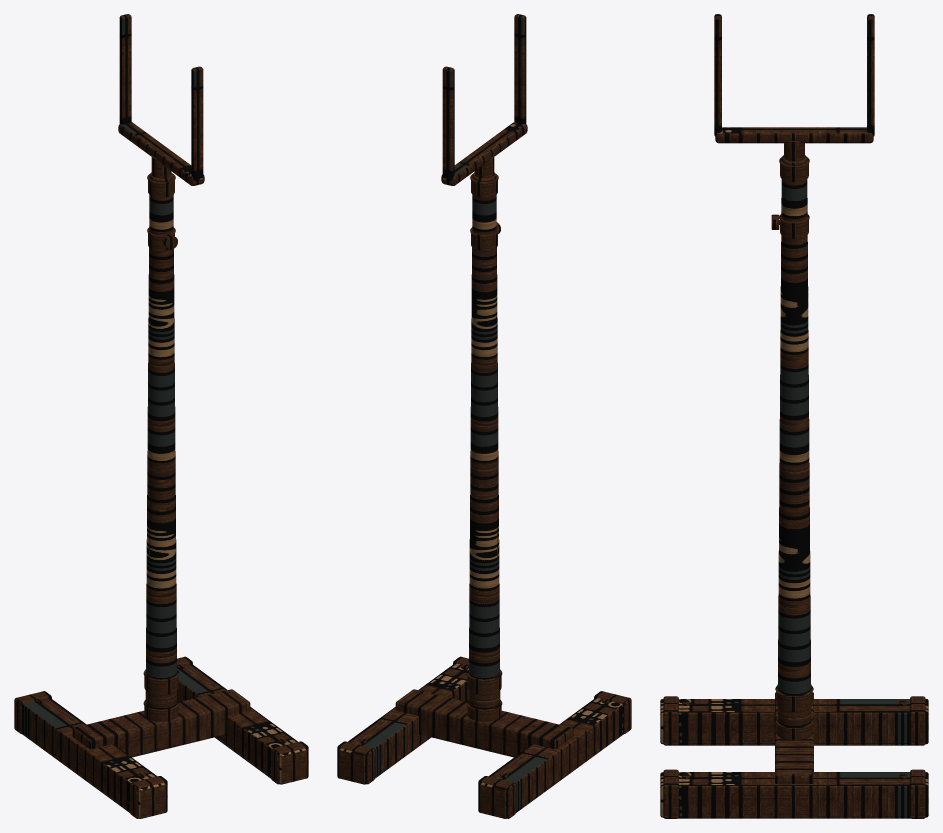
The model's file is SM_DY_LampStand_Baked.fbx.
3 views of the same model, side by side, from view 1: azimuth 30°, elevation 25°; view 2: azimuth 150°, elevation 25°; view 3: azimuth 270°, elevation 25° (orthographic). The views are drawn at different scales.
Parts seen in each view (by area): view 1: SM_DY_LampStand_Baked; view 2: SM_DY_LampStand_Baked; view 3: SM_DY_LampStand_Baked.
Part boxes in pixels (bbox=[...]): SM_DY_LampStand_Baked: bbox=[14, 14, 308, 818]; SM_DY_LampStand_Baked: bbox=[337, 14, 631, 818]; SM_DY_LampStand_Baked: bbox=[660, 14, 928, 818].
Bounding box in the file's own units: 0.99 × 0.784 × 3.09.
